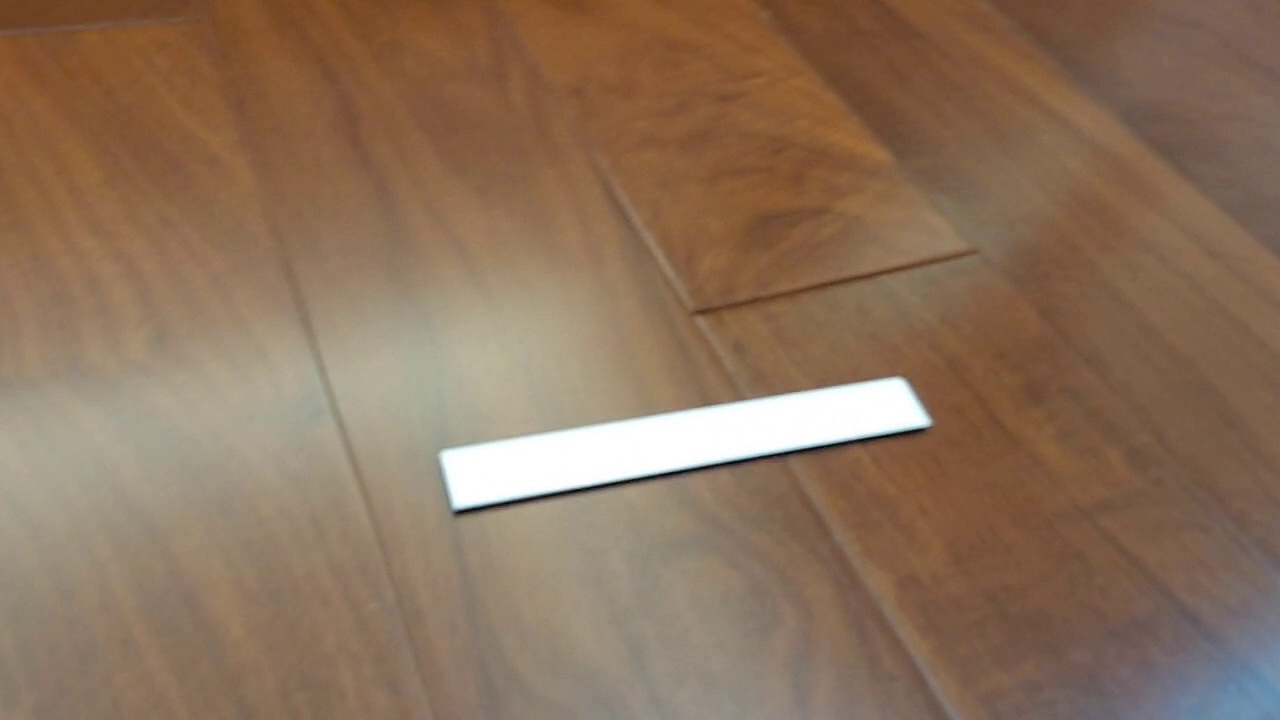ruler: (436, 374, 936, 517)
